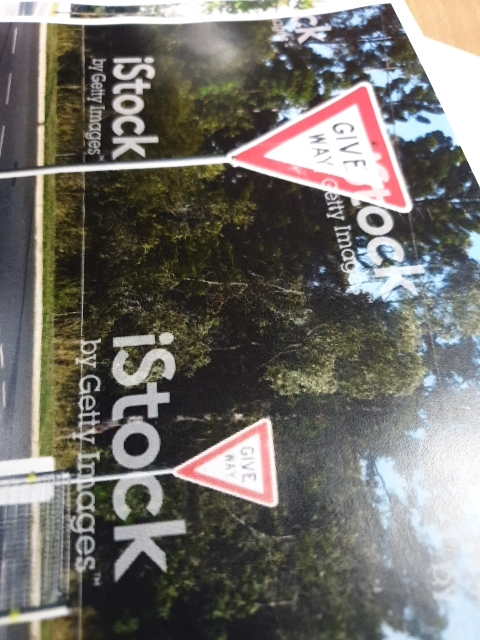giveway: (236, 85, 416, 223), (180, 408, 290, 520)
